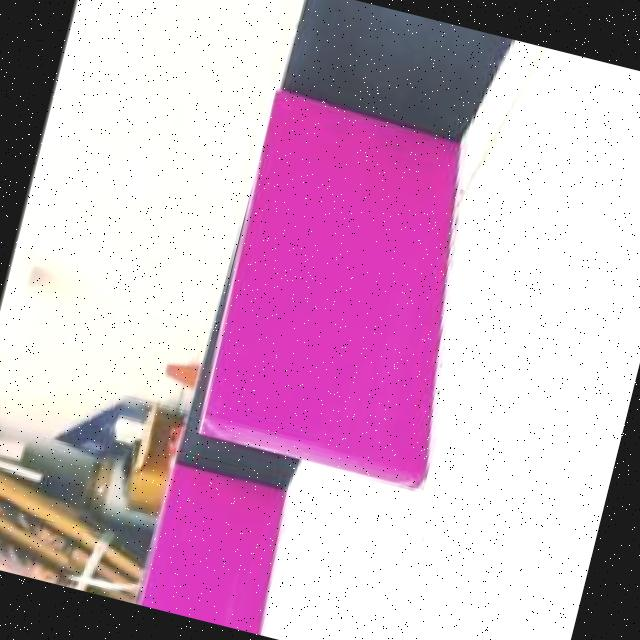xparking: (196, 91, 478, 479), (133, 463, 286, 632)
